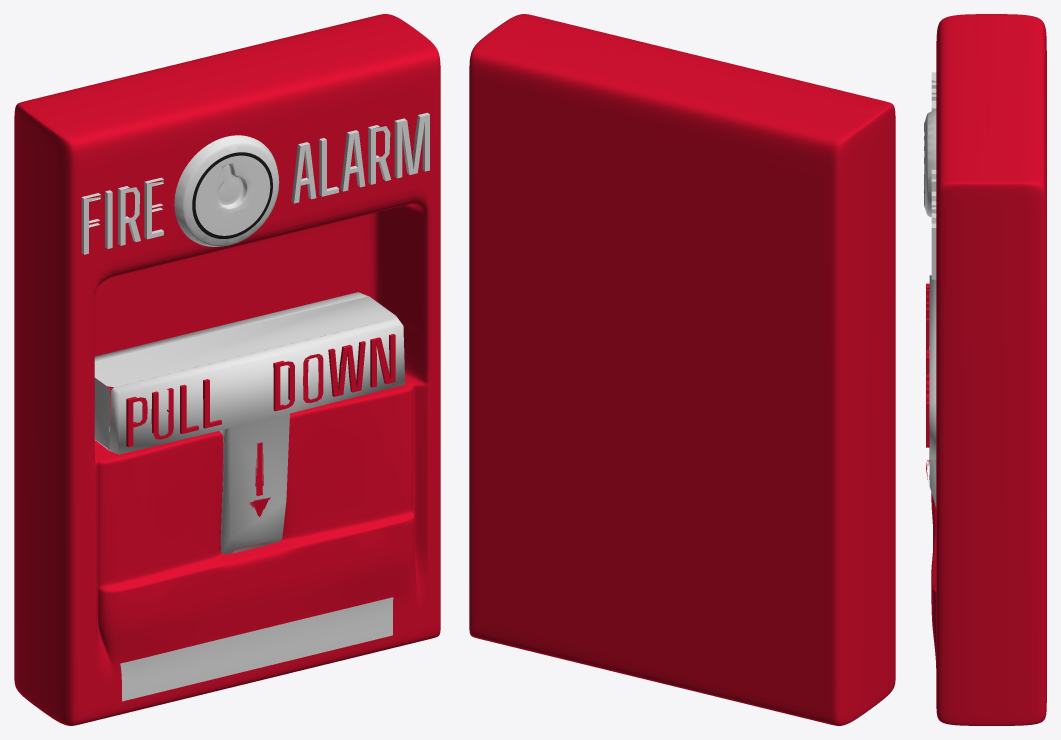
Rendered from FireAlarm.gltf.
3 renders of one model, left to right at view 1: azimuth 30°, elevation 25°; view 2: azimuth 150°, elevation 25°; view 3: azimuth 270°, elevation 25°, orthographic. The views are drawn at different scales.
Parts seen in each view (by area): view 1: Object_7, Object_5, Object_2, Object_3, Object_6, Object_4; view 2: Object_7; view 3: Object_7, Object_5, Object_3, Object_6.
Boxes of the visible parts, x1=… form: Object_7: x1=14, y1=14, x2=440, y2=725; Object_5: x1=81, y1=112, x2=429, y2=553; Object_2: x1=120, y1=597, x2=393, y2=701; Object_3: x1=174, y1=135, x2=279, y2=246; Object_6: x1=126, y1=334, x2=395, y2=516; Object_4: x1=192, y1=152, x2=272, y2=238; Object_7: x1=469, y1=14, x2=895, y2=725; Object_7: x1=931, y1=14, x2=1046, y2=725; Object_5: x1=929, y1=72, x2=936, y2=507; Object_3: x1=924, y1=109, x2=936, y2=217; Object_6: x1=926, y1=283, x2=929, y2=481.
Size of the model in its own units: 1.09 by 1.61 by 0.3304.
